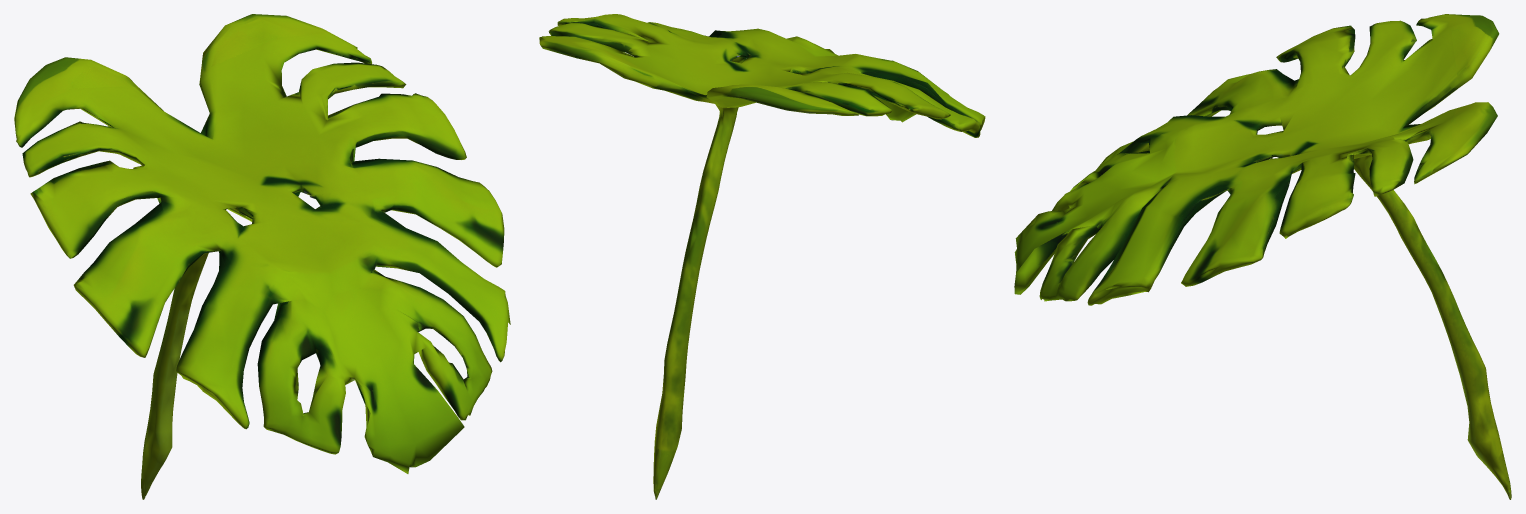
File: mon_neon_lime_new.glb
3 views of the same model, side by side, from view 1: azimuth 30°, elevation 25°; view 2: azimuth 150°, elevation 25°; view 3: azimuth 270°, elevation 25° (orthographic). The views are drawn at different scales.
Bounding box in the file's own units: 1.76 × 1.92 × 2.
1 material, 1 textured.
